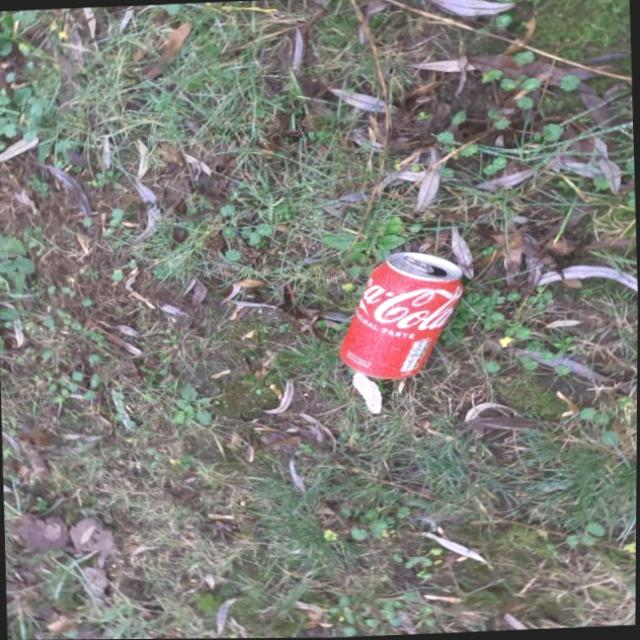Can-Metal: (333, 249, 468, 382)
